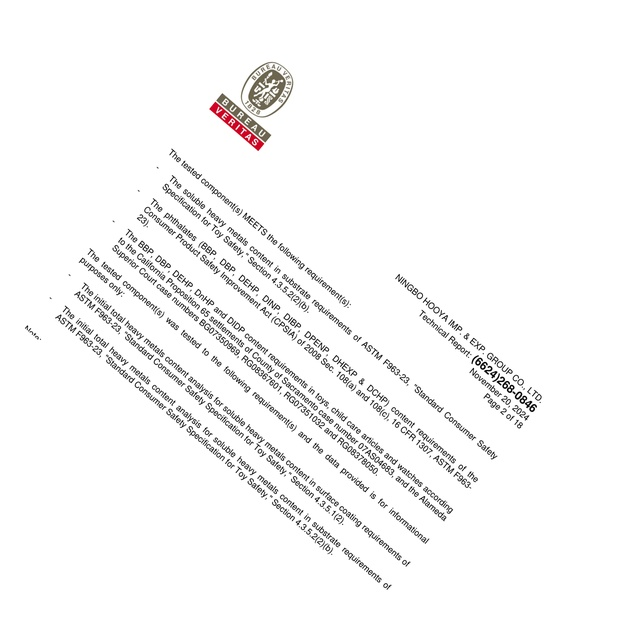bureau_veritas: (204, 57, 294, 156)
